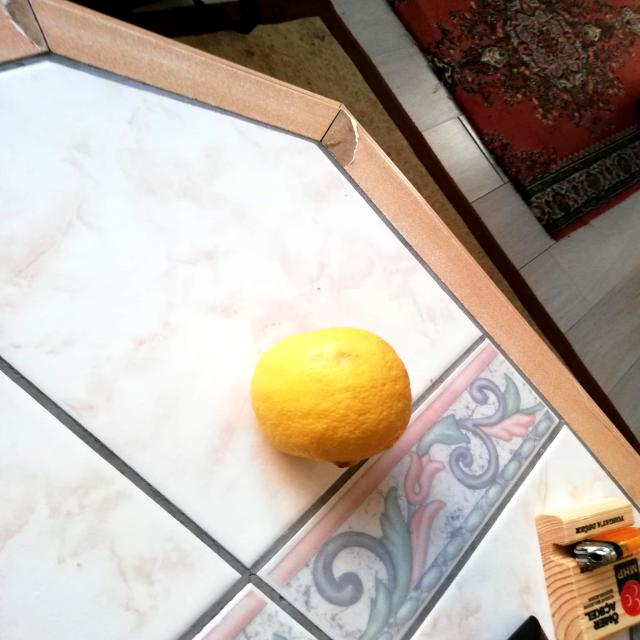lemon: (244, 321, 418, 472)
